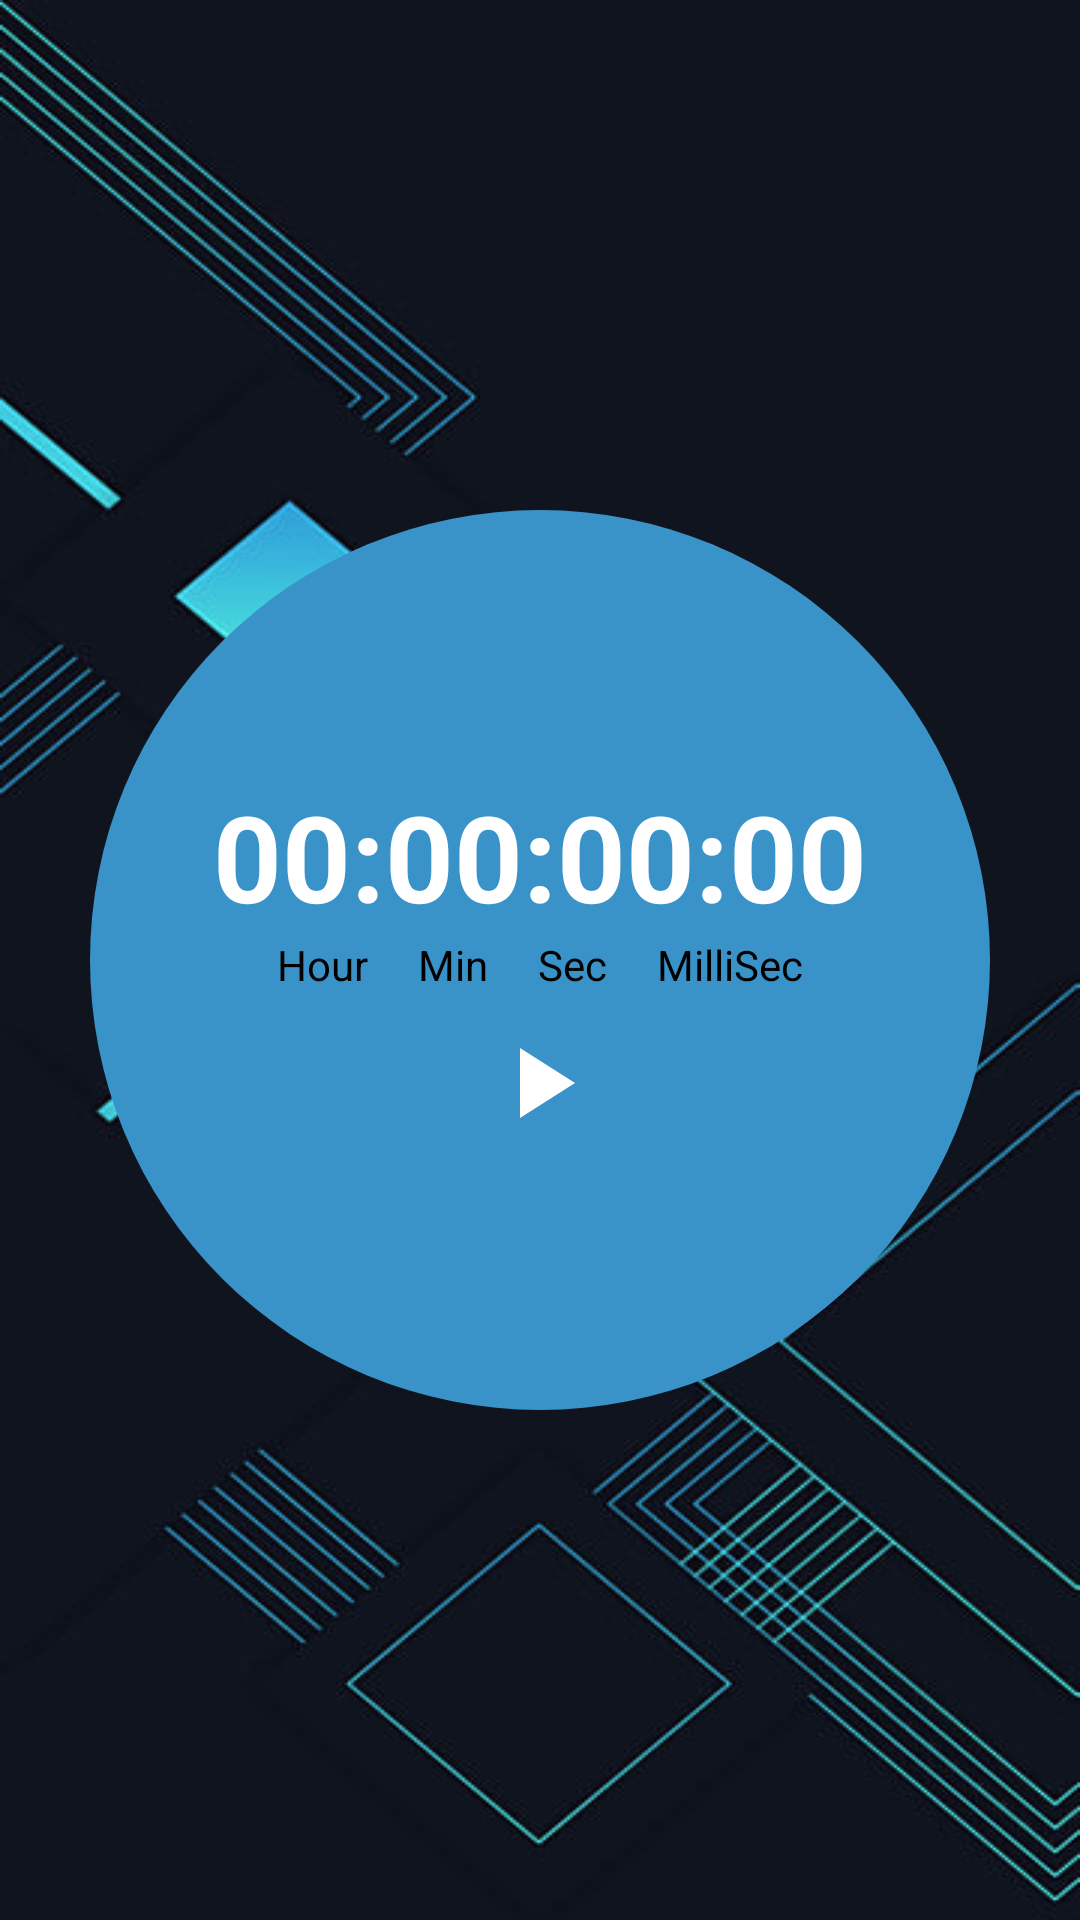

Icons on this 1080*1920 Android screen, each with the point to tap as [x,y]:
play: [547,1083]
